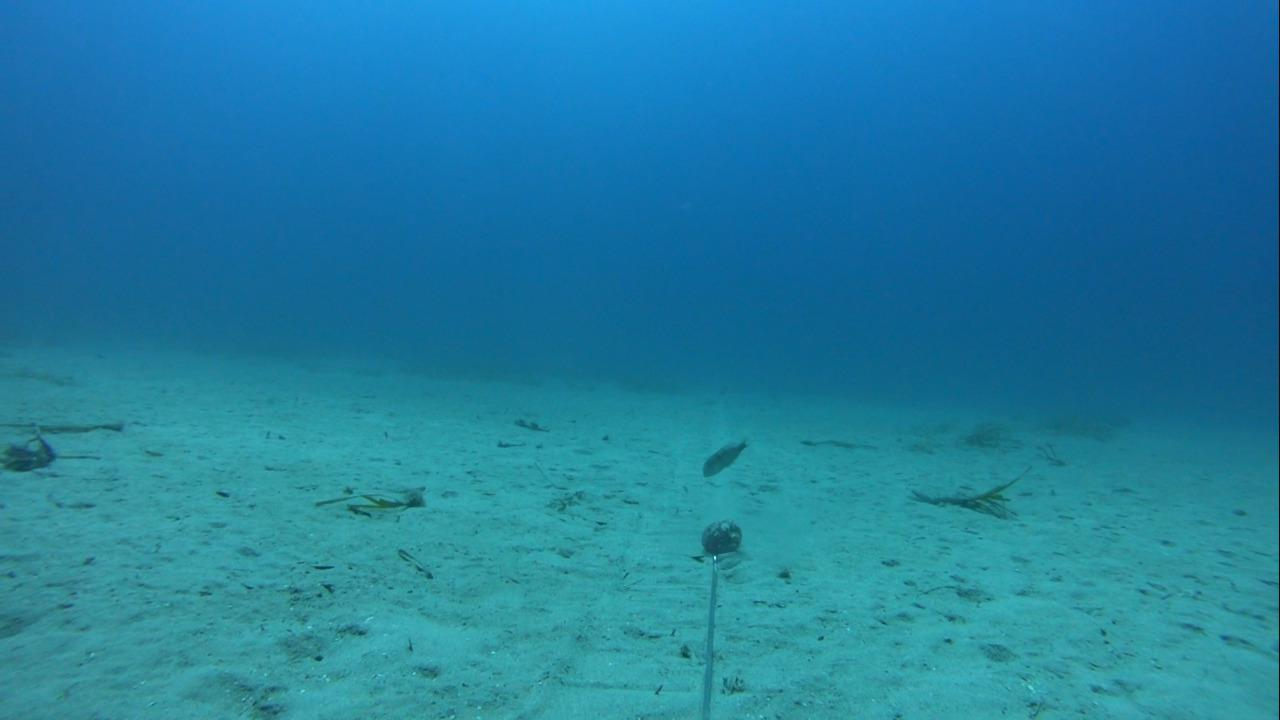raor: (698, 433, 754, 482)
